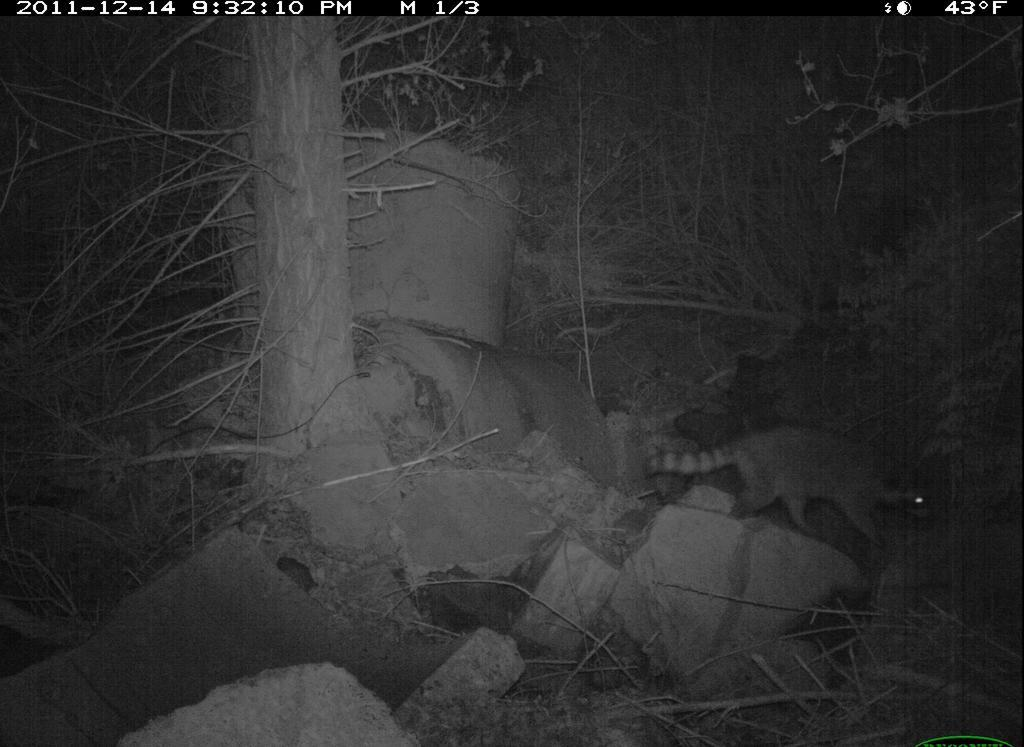raccoon: (639, 418, 952, 561)
